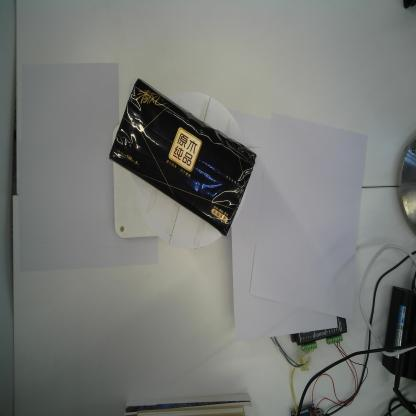Tissue: (109, 78, 257, 238)
